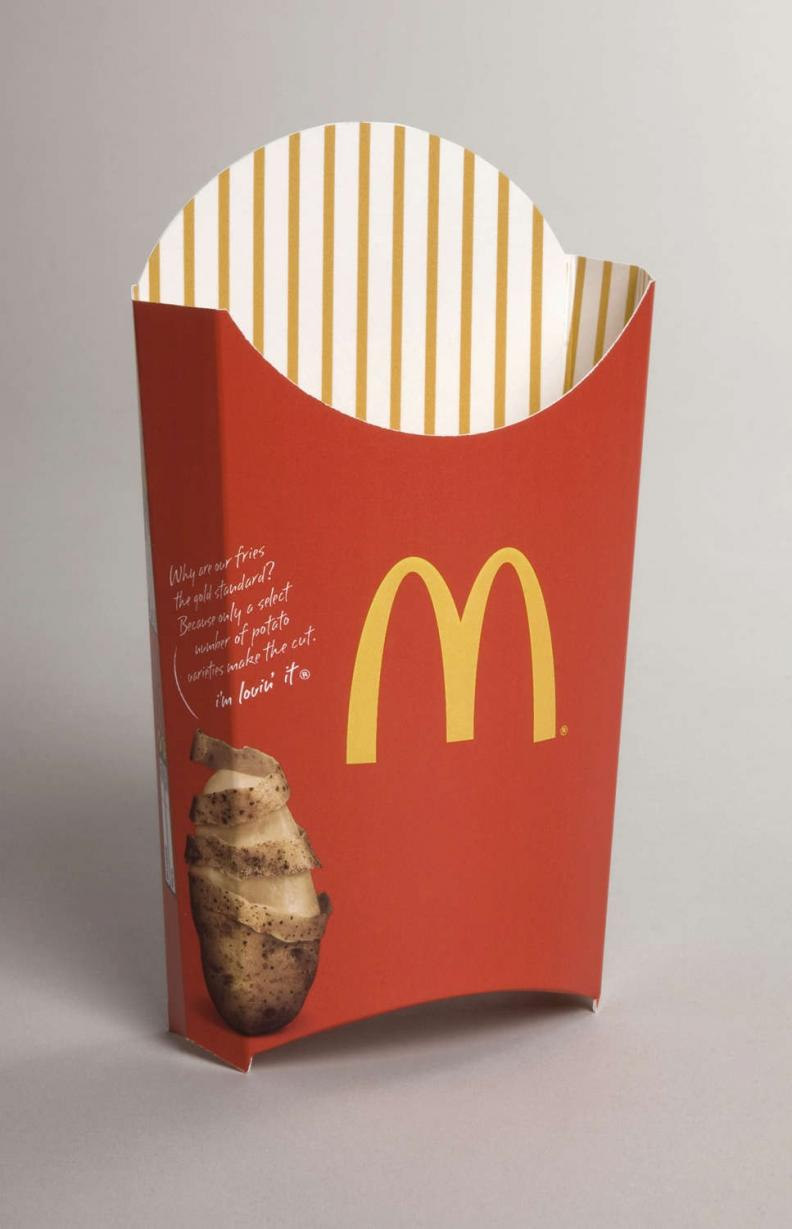mcdonalds: (317, 537, 577, 789)
